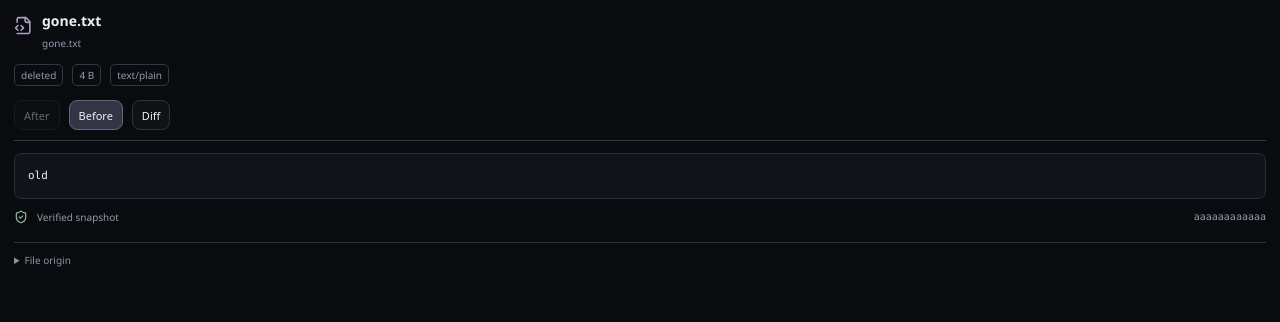
opens the preserved before version of a deleted file and shows exact diff counts
Expected: the text "old" is shown, [14, 153, 1266, 199]
Click the button "Diff".
click(151, 115)  # box [132, 100, 170, 130]
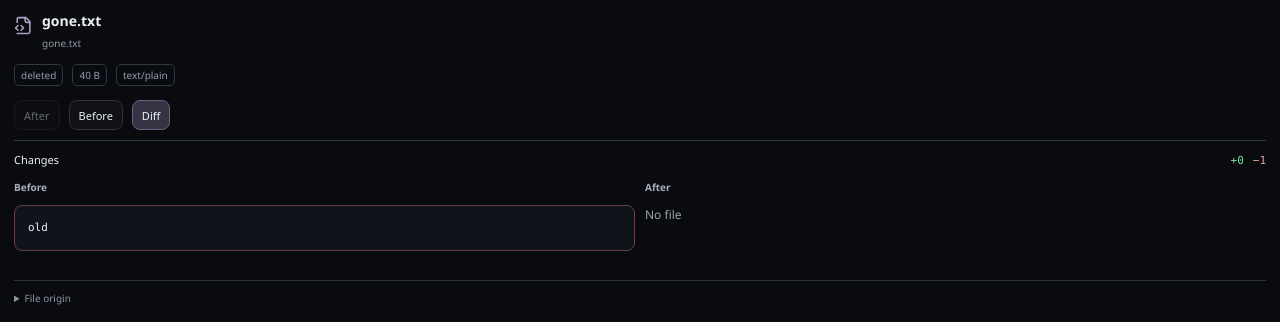
Expected: the text named "1 lines removed" is shown, [1253, 154, 1266, 167]
